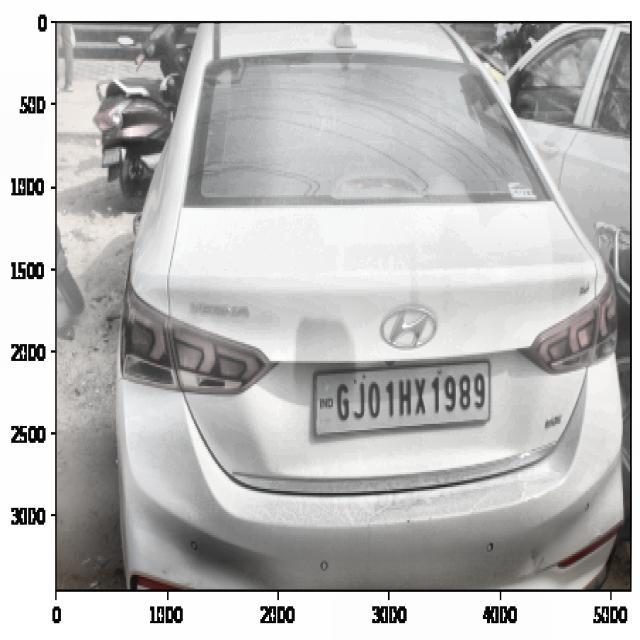license_plate: (330, 371, 492, 427)
